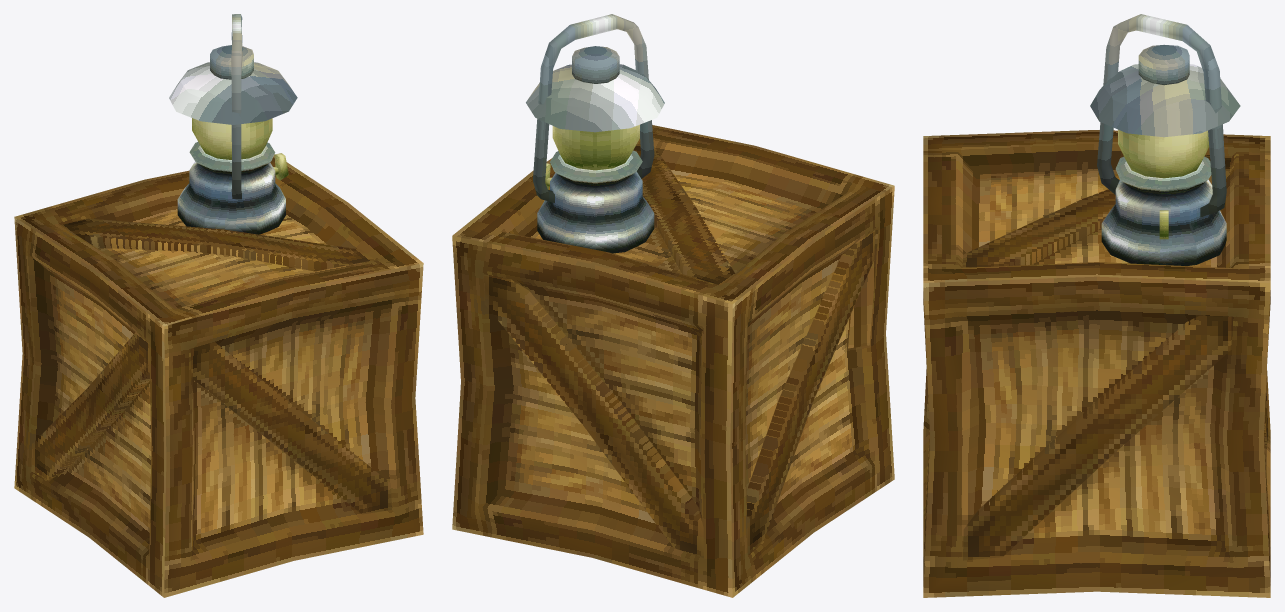
The model's file is a-lamp-1-3.glb.
The picture shows the model from 3 angles, left to right: view 1: azimuth 30°, elevation 25°; view 2: azimuth 150°, elevation 25°; view 3: azimuth 270°, elevation 25°; orthographic projection. The views are drawn at different scales.
Parts seen in each view (by area): view 1: a_lamp_1; view 2: a_lamp_1; view 3: a_lamp_1.
Boxes of the visible parts, x1,y1,x2,y2 form: a_lamp_1: [14, 14, 423, 597]; a_lamp_1: [452, 14, 894, 597]; a_lamp_1: [923, 14, 1270, 597].
Size of the model in its own units: 150 by 252 by 150.
Materials: 4 (4 with a texture image).
